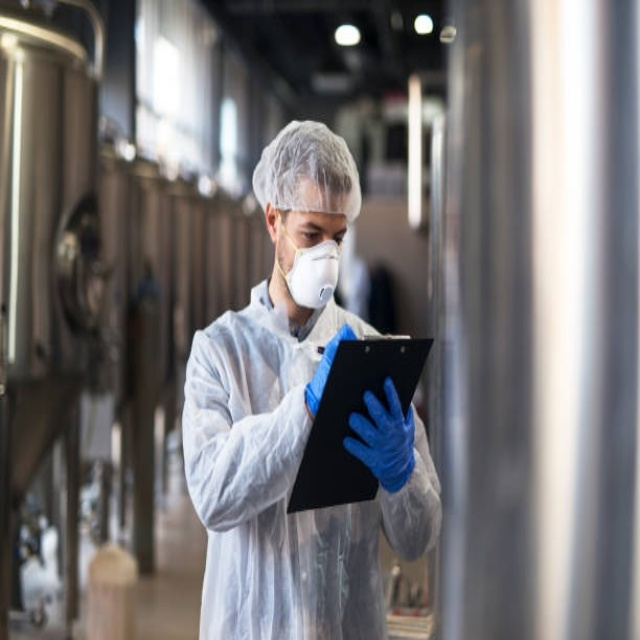Guantes: (344, 377, 415, 494), (304, 324, 358, 418)
Mascara: (276, 235, 345, 304)
Sin_gafas: (291, 215, 347, 246)
